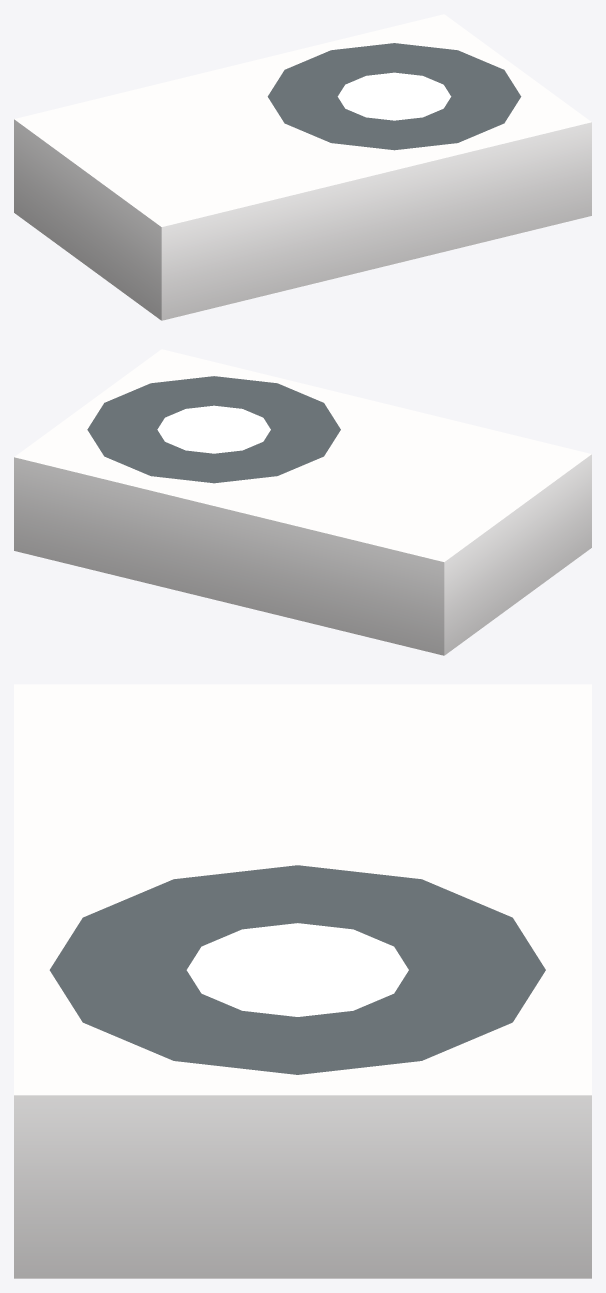
The model's file is Rooftop_Ventilation_01.glb.
The picture shows the model from 3 angles, top to bottom: view 1: azimuth 30°, elevation 25°; view 2: azimuth 150°, elevation 25°; view 3: azimuth 270°, elevation 25°; orthographic projection. The views are drawn at different scales.
Visible parts, largest first — view 1: Rooftop_Ventilation_01; view 2: Rooftop_Ventilation_01; view 3: Rooftop_Ventilation_01.
Part boxes in pixels (bbox=[...]): Rooftop_Ventilation_01: bbox=[14, 14, 591, 320]; Rooftop_Ventilation_01: bbox=[14, 349, 591, 655]; Rooftop_Ventilation_01: bbox=[14, 684, 591, 1278].
Size of the model in its own units: 1.46 by 0.3141 by 0.8701.
Materials: 1 (1 with a texture image).
